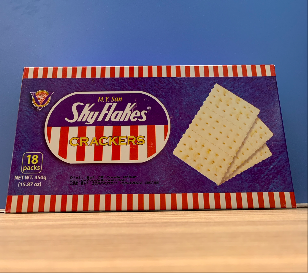Crackers_400-499g: (23, 75, 274, 197)
